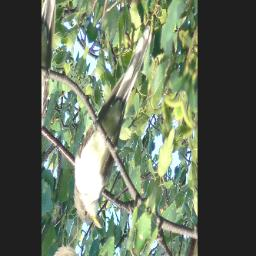Cuckoo: (62, 0, 161, 240)
